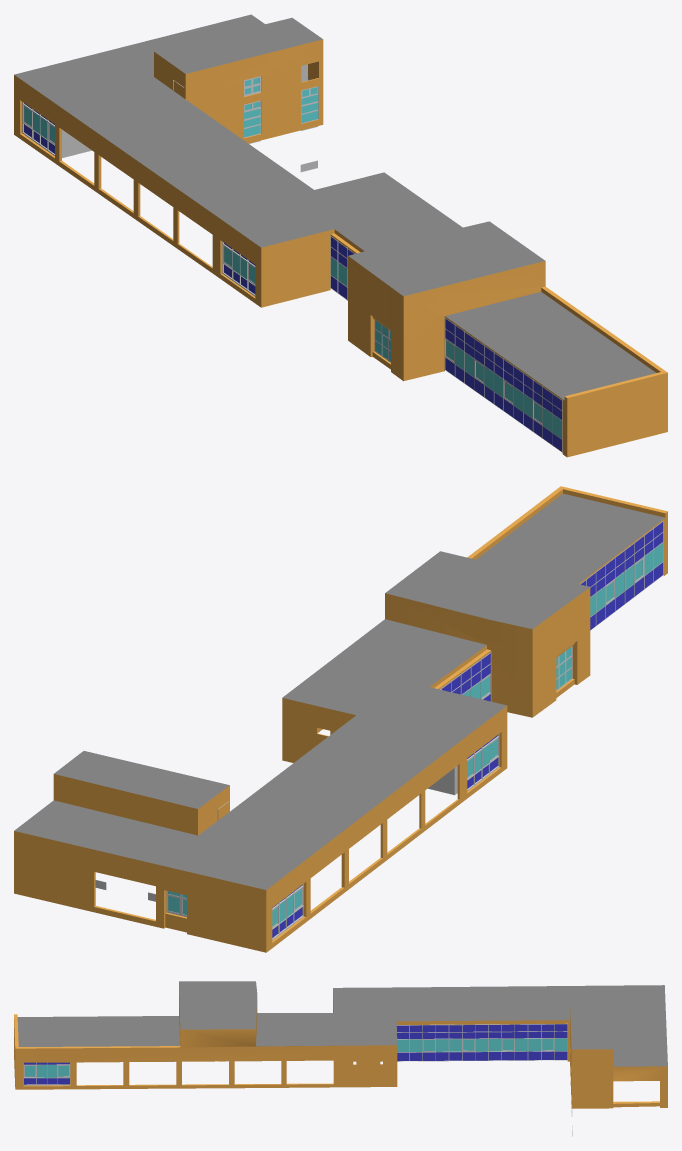
The picture shows the model from 3 angles, top to bottom: view 1: azimuth 30°, elevation 25°; view 2: azimuth 150°, elevation 25°; view 3: azimuth 270°, elevation 25°; orthographic projection. The views are drawn at different scales.
Visible parts, largest first — view 1: stena, stena.360, stena.362, stena.363, stena.312, stena.361, stena.345, stena.340, stena.316; view 2: stena, stena.360, stena.362, stena.363, stena.361, stena.312, stena.316, stena.345, stena.340; view 3: stena.360, stena, stena.307, stena.362, stena.363, stena.361, stena.615.
Part boxes in pixels (left/top/right/bottom): stena: left=14, top=39, right=667, bottom=457; stena.360: left=14, top=14, right=462, bottom=251; stena.362: left=445, top=292, right=655, bottom=400; stena.363: left=348, top=221, right=545, bottom=296; stena.312: left=444, top=317, right=562, bottom=452; stena.361: left=154, top=17, right=322, bottom=73; stena.345: left=222, top=242, right=255, bottom=296; stena.340: left=22, top=102, right=54, bottom=155; stena.316: left=330, top=235, right=354, bottom=300; stena: left=14, top=486, right=667, bottom=952; stena.360: left=14, top=619, right=506, bottom=889; stena.362: left=476, top=493, right=664, bottom=583; stena.363: left=385, top=551, right=589, bottom=628; stena.361: left=54, top=751, right=229, bottom=808; stena.312: left=580, top=520, right=663, bottom=630; stena.316: left=440, top=651, right=491, bottom=701; stena.345: left=467, top=734, right=499, bottom=790; stena.340: left=272, top=884, right=303, bottom=940; stena.360: left=256, top=985, right=667, bottom=1066; stena: left=14, top=982, right=667, bottom=1108; stena.307: left=396, top=1023, right=567, bottom=1061; stena.362: left=17, top=1016, right=180, bottom=1046; stena.363: left=179, top=981, right=257, bottom=1029; stena.361: left=570, top=1002, right=613, bottom=1049; stena.615: left=23, top=1062, right=70, bottom=1085.
Bounding box in the file's own units: 2211 × 1115 × 7452.
